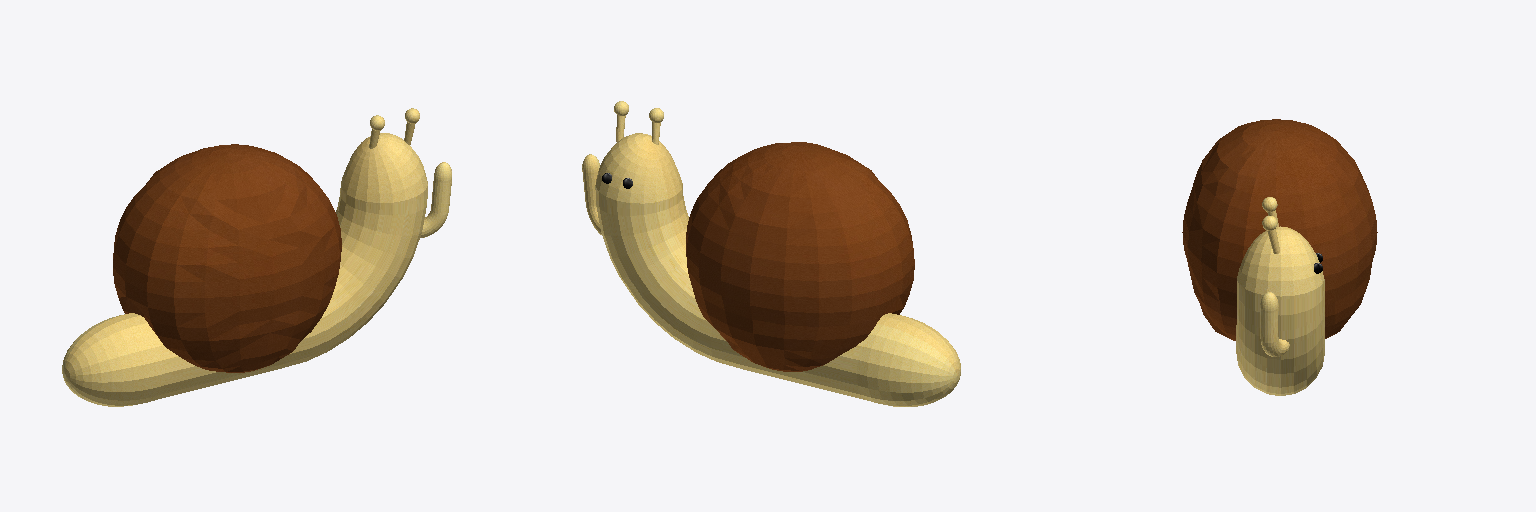
The picture shows the model from 3 angles: view 1: azimuth 30°, elevation 25°; view 2: azimuth 150°, elevation 25°; view 3: azimuth 270°, elevation 25°; orthographic projection.
Parts seen in each view (by area): view 1: pasted__pSphere4; view 2: pasted__pSphere4; view 3: pasted__pSphere4.
Boxes of the visible parts, <box> form: pasted__pSphere4: <box>62,108,451,406</box>; pasted__pSphere4: <box>582,101,960,406</box>; pasted__pSphere4: <box>1182,119,1377,395</box>.
Size of the model in its own units: 1.36 by 0.7902 by 0.6062.
Materials: 4 (3 with a texture image).